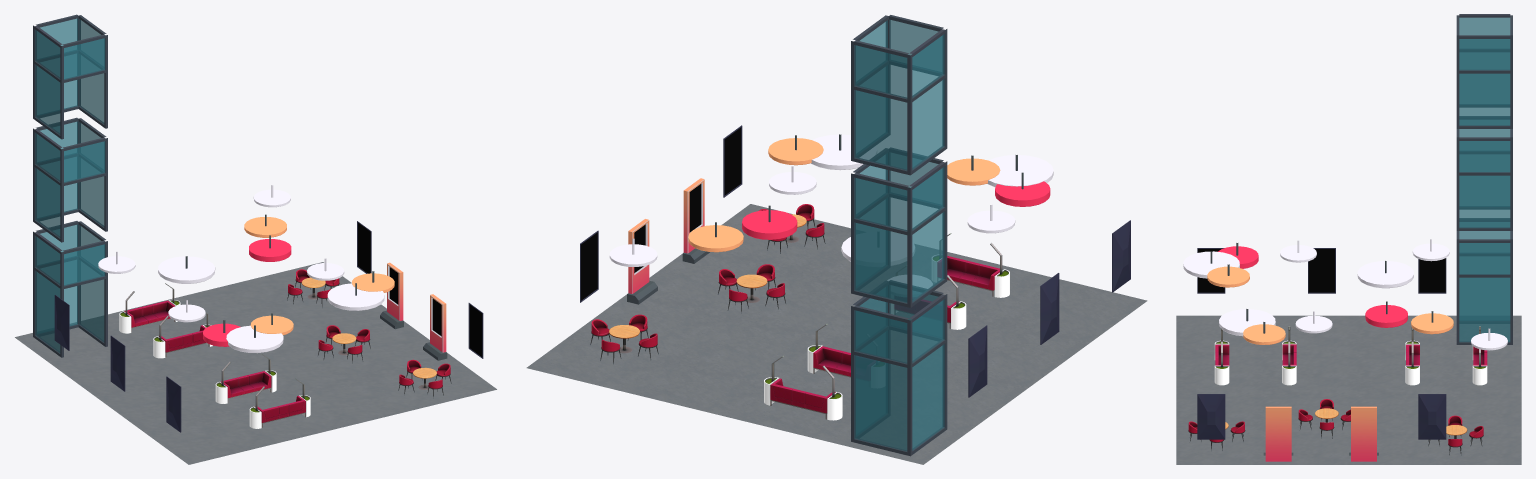
The model's file is TeachingCommunityInteriorTeachingRoomLobby.glb.
3 renders of one model, left to right at view 1: azimuth 30°, elevation 25°; view 2: azimuth 150°, elevation 25°; view 3: azimuth 270°, elevation 25°, orthographic. The views are drawn at different scales.
Parts seen in each view (by area): view 1: TCV_TeachingRoomFloor, TCV_LiftGlass, TCV_LiftFrames, TCV_WelcomeZoneRoofArt1, TCV_TeachingRoomLobbySofa06, TCV_WelcomeZoneRoofLights1, TCV_TeachingRoomLobbySofa07, TCV_TeachingRoomLobbyWhatsOnScreen5, TCV_TeachingRoomLobbyOnScreen4, TCV_TeachingRoomLobbyChairTable6, TCV_TeachingRoomLobbyChairTable4, TCV_TeachingRoomLobbyChairTable5 (+5 smaller); view 2: TCV_TeachingRoomFloor, TCV_LiftGlass, TCV_LiftFrames, TCV_WelcomeZoneRoofArt1, TCV_WelcomeZoneRoofLights1, TCV_TeachingRoomLobbySofa07, TCV_TeachingRoomLobbySofa06, TCV_TeachingRoomLobbyChairTable5, TCV_TeachingRoomLobbyChairTable6, TCV_TeachingRoomLobbyWhatsOnScreen5, TCV_TeachingRoomLobbyOnScreen4, TCV_TeachingRoomLobbyScreen4 (+5 smaller); view 3: TCV_TeachingRoomFloor, TCV_LiftGlass, TCV_WelcomeZoneRoofArt1, TCV_LiftFrames, TCV_WelcomeZoneRoofLights1, TCV_TeachingRoomLobbyWhatsOnScreen5, TCV_TeachingRoomLobbyOnScreen4, TCV_TeachingRoomLobbySofa06, TCV_TeachingRoomLobbyScreen2, TCV_TeachingRoomLobbyScreen3, TCV_TeachingRoomLobbySofa07, TCV_TeachingRoomLobbyScreen6 (+5 smaller).
Boxes of the visible parts, x1,y1,x2,y2 form: TCV_TeachingRoomFloor: (15, 262, 496, 464); TCV_LiftGlass: (35, 18, 105, 352); TCV_LiftFrames: (33, 14, 107, 357); TCV_WelcomeZoneRoofArt1: (158, 214, 394, 353); TCV_TeachingRoomLobbySofa06: (215, 353, 310, 428); TCV_WelcomeZoneRoofLights1: (98, 185, 344, 322); TCV_TeachingRoomLobbySofa07: (119, 283, 212, 358); TCV_TeachingRoomLobbyWhatsOnScreen5: (423, 294, 447, 360); TCV_TeachingRoomLobbyOnScreen4: (380, 262, 403, 329); TCV_TeachingRoomLobbyChairTable6: (318, 325, 370, 363); TCV_TeachingRoomLobbyChairTable4: (398, 359, 451, 398); TCV_TeachingRoomLobbyChairTable5: (287, 269, 339, 307); TCV_TeachingRoomFloor: (526, 204, 1147, 464); TCV_LiftGlass: (854, 20, 944, 451); TCV_LiftFrames: (851, 15, 947, 456); TCV_WelcomeZoneRoofArt1: (688, 134, 1053, 265); TCV_WelcomeZoneRoofLights1: (609, 166, 1015, 288); TCV_TeachingRoomLobbySofa07: (764, 323, 850, 420); TCV_TeachingRoomLobbySofa06: (891, 233, 1009, 329); TCV_TeachingRoomLobbyChairTable5: (590, 314, 658, 364); TCV_TeachingRoomLobbyChairTable6: (718, 264, 786, 313); TCV_TeachingRoomLobbyWhatsOnScreen5: (682, 178, 709, 263); TCV_TeachingRoomLobbyOnScreen4: (627, 219, 657, 304); TCV_TeachingRoomLobbyScreen4: (968, 325, 987, 397); TCV_TeachingRoomFloor: (1176, 315, 1521, 464); TCV_LiftGlass: (1459, 17, 1510, 342); TCV_WelcomeZoneRoofArt1: (1183, 243, 1453, 344); TCV_LiftFrames: (1456, 14, 1512, 344); TCV_WelcomeZoneRoofLights1: (1280, 239, 1507, 350); TCV_TeachingRoomLobbyWhatsOnScreen5: (1263, 406, 1293, 461); TCV_TeachingRoomLobbyOnScreen4: (1349, 406, 1378, 461); TCV_TeachingRoomLobbySofa06: (1214, 326, 1296, 385); TCV_TeachingRoomLobbyScreen2: (1418, 394, 1446, 439); TCV_TeachingRoomLobbyScreen3: (1197, 394, 1225, 439); TCV_TeachingRoomLobbySofa07: (1405, 326, 1487, 385); TCV_TeachingRoomLobbyScreen6: (1308, 248, 1335, 293).
Size of what is drawn, in the model's own units: 19.14 by 18.45 by 18.69.
Materials: 6 (5 with a texture image).
